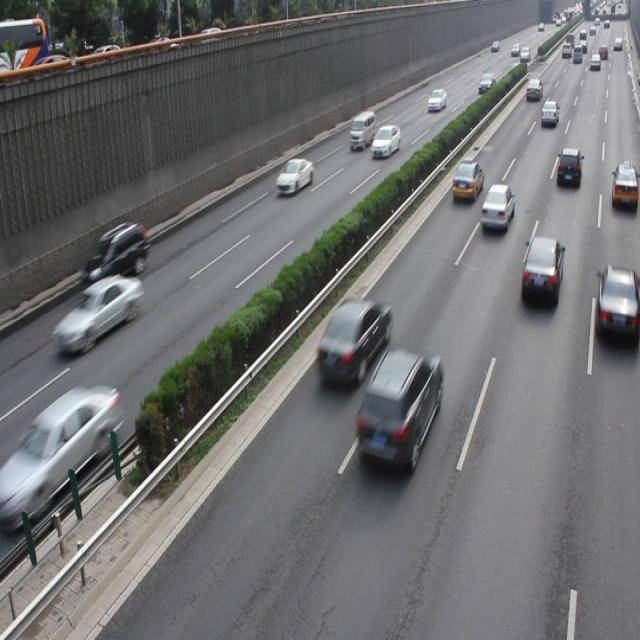car: (10, 384, 120, 516), (355, 346, 441, 469), (56, 272, 142, 356), (315, 295, 390, 384), (80, 218, 148, 288), (594, 264, 640, 342), (518, 235, 562, 304), (479, 182, 513, 232), (275, 156, 314, 196), (608, 164, 640, 208), (451, 158, 482, 202), (555, 147, 580, 188)
